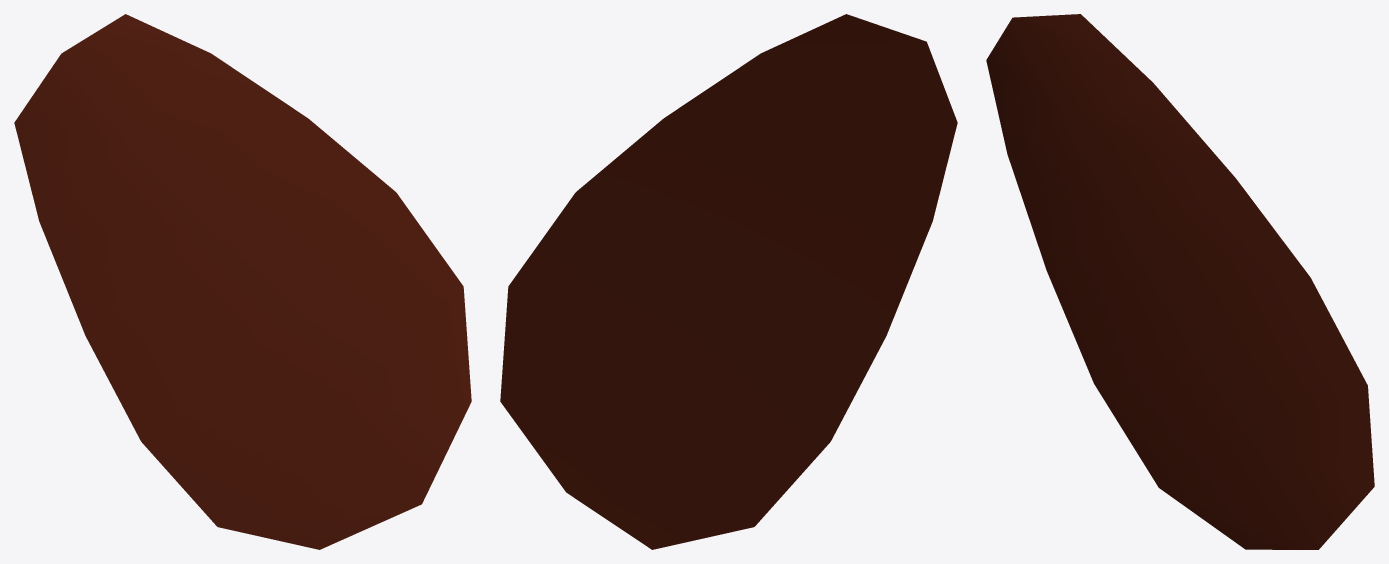
Rendered from finch_feather_flight_tertiary_023.obj.
3 views of the same model, side by side, from view 1: azimuth 30°, elevation 25°; view 2: azimuth 150°, elevation 25°; view 3: azimuth 330°, elevation 25° (orthographic). The views are drawn at different scales.
Visible parts, largest first — view 1: feather_flight_tertiary_023; view 2: feather_flight_tertiary_023; view 3: feather_flight_tertiary_023.
Boxes of the visible parts, x1,y1,x2,y2 form: feather_flight_tertiary_023: (14,14,471,549); feather_flight_tertiary_023: (500,14,957,549); feather_flight_tertiary_023: (986,14,1374,549).
Bounding box in the file's own units: 0.00496 × 0.00604 × 0.000152.
